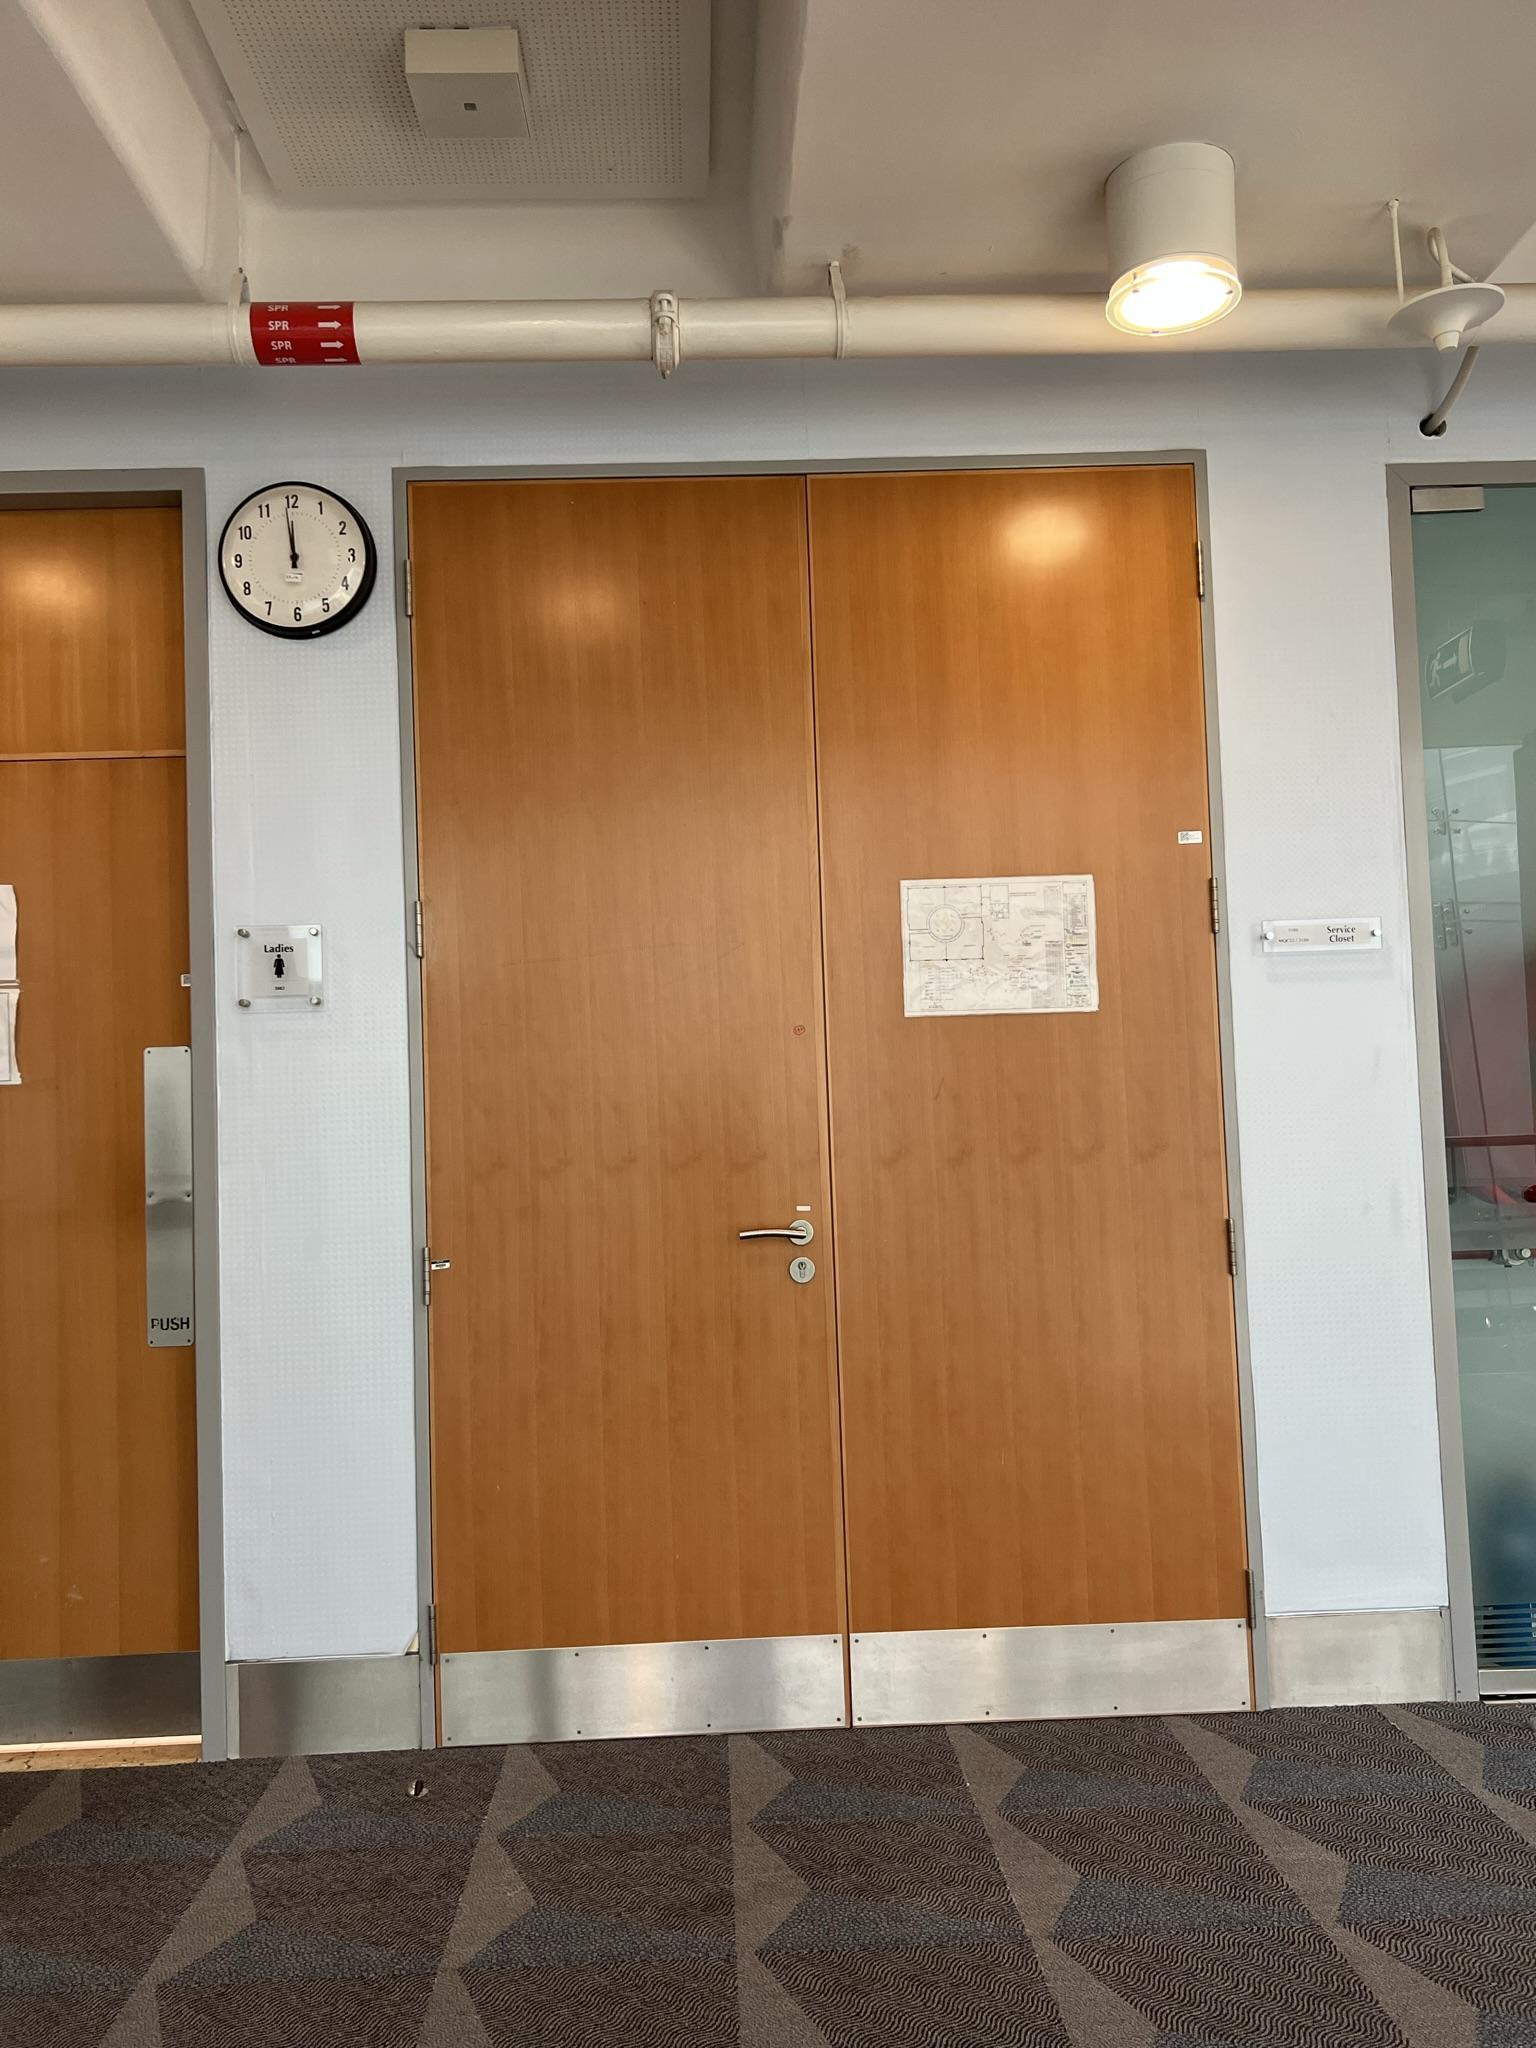door: (802, 461, 1270, 1706), (392, 471, 849, 1730), (2, 461, 240, 1774)
handle: (733, 1206, 833, 1298)
